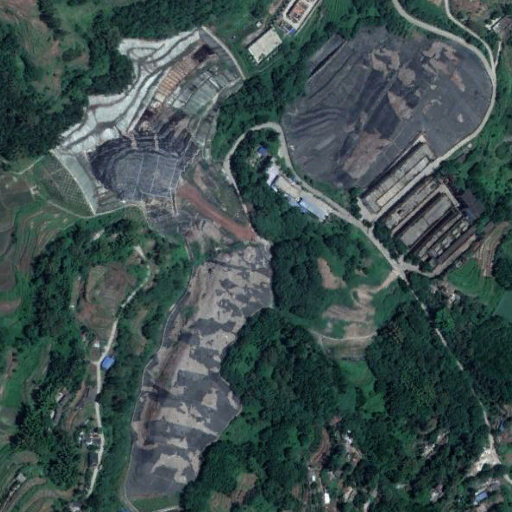lf: (47, 25, 275, 512), (285, 27, 492, 192)
